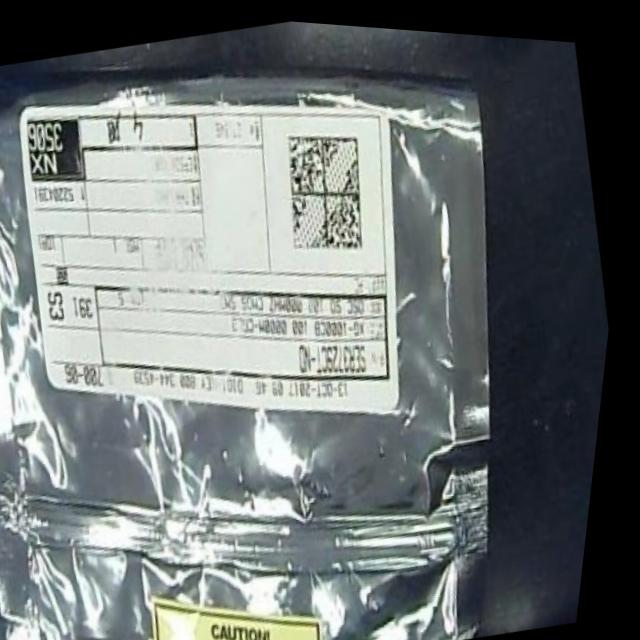datamatrix: (270, 112, 389, 262)
